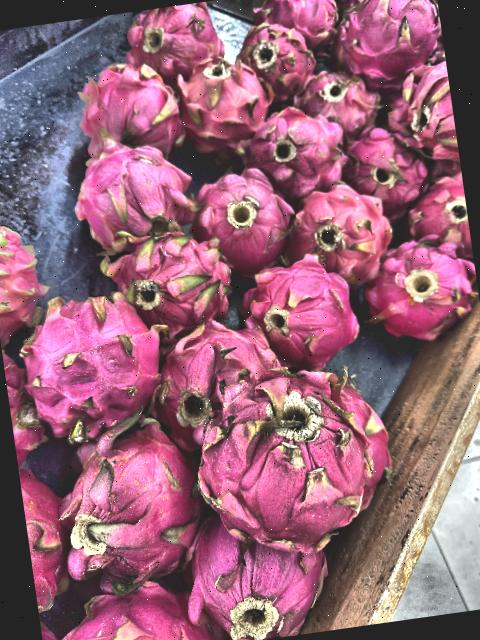buah-naga-belum-matang: (88, 206, 240, 344), (45, 580, 223, 640)
buah-naga-matang: (176, 355, 408, 563), (57, 421, 208, 585), (9, 293, 174, 432), (184, 510, 334, 640), (62, 115, 202, 250), (232, 243, 370, 376), (150, 310, 284, 432), (60, 56, 189, 162), (186, 154, 300, 271), (283, 178, 394, 292), (234, 101, 356, 202), (173, 52, 278, 166), (368, 234, 474, 344), (330, 0, 443, 94), (118, 0, 232, 84), (233, 7, 324, 107), (342, 118, 432, 216), (287, 61, 394, 143), (0, 208, 51, 351)
